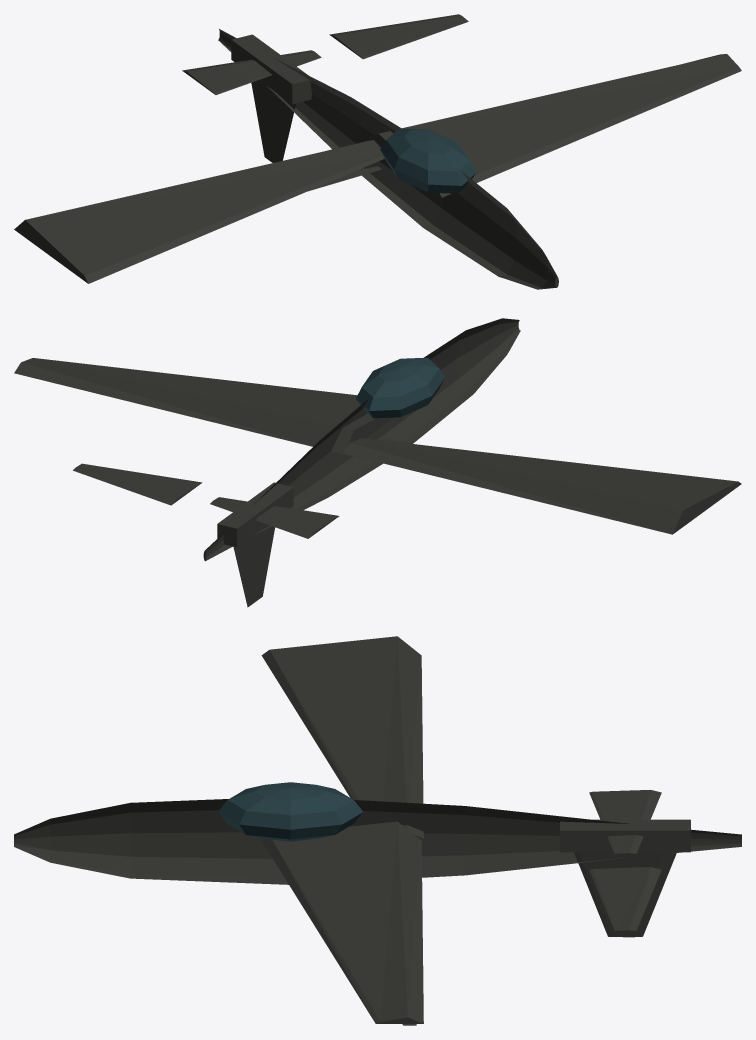
File: ju87_Destroyed.glb
3 renders of one model, top to bottom at view 1: azimuth 30°, elevation 25°; view 2: azimuth 150°, elevation 25°; view 3: azimuth 270°, elevation 25°, orthographic. The views are drawn at different scales.
Visible parts, largest first — view 1: Wing_L, Wing_R, Fuselage, Cockpit, Elevator_R, TailBoom, Rudder, Elevator_L; view 2: Wing_L, Wing_R, Fuselage, Cockpit, Elevator_R, TailBoom, Rudder, Elevator_L; view 3: Fuselage, Wing_R, Wing_L, Cockpit, TailBoom, Elevator_R, Rudder, Elevator_L.
Boxes of the visible parts, x1=… form: Wing_L: x1=14, y1=140, x2=384, y2=283; Wing_R: x1=371, y1=54, x2=741, y2=197; Fuselage: x1=218, y1=29, x2=558, y2=289; Cockpit: x1=380, y1=128, x2=476, y2=193; Elevator_R: x1=329, y1=14, x2=468, y2=59; TailBoom: x1=231, y1=34, x2=311, y2=104; Rudder: x1=251, y1=80, x2=295, y2=162; Elevator_L: x1=182, y1=50, x2=321, y2=94; Wing_L: x1=343, y1=438, x2=741, y2=534; Wing_R: x1=14, y1=358, x2=393, y2=454; Fuselage: x1=203, y1=318, x2=520, y2=561; Cockpit: x1=356, y1=357, x2=444, y2=418; Elevator_R: x1=73, y1=463, x2=202, y2=505; TailBoom: x1=217, y1=482, x2=293, y2=547; Rudder: x1=233, y1=525, x2=274, y2=607; Elevator_L: x1=210, y1=497, x2=339, y2=538; Fuselage: x1=14, y1=799, x2=741, y2=884; Wing_R: x1=261, y1=821, x2=423, y2=1023; Wing_L: x1=261, y1=636, x2=423, y2=838; Cockpit: x1=218, y1=782, x2=362, y2=841; TailBoom: x1=560, y1=819, x2=690, y2=852; Elevator_R: x1=589, y1=867, x2=661, y2=931; Rudder: x1=574, y1=852, x2=676, y2=937; Elevator_L: x1=589, y1=790, x2=661, y2=853.
Bounding box in the file's own units: 13.25 × 2.48 × 11.
